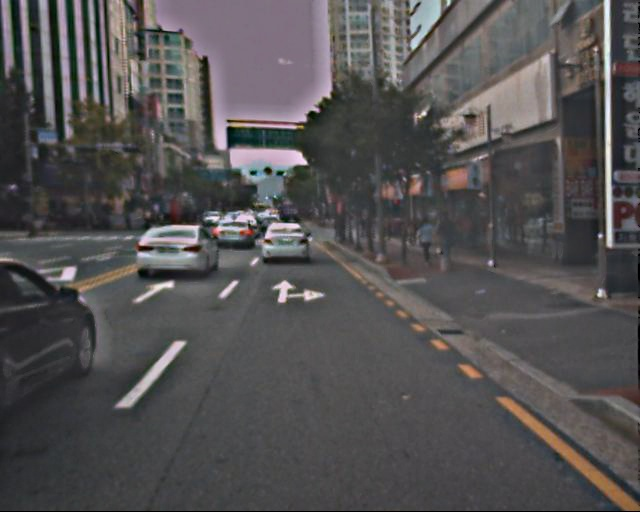person: (436, 210, 459, 267), (415, 215, 436, 267)
